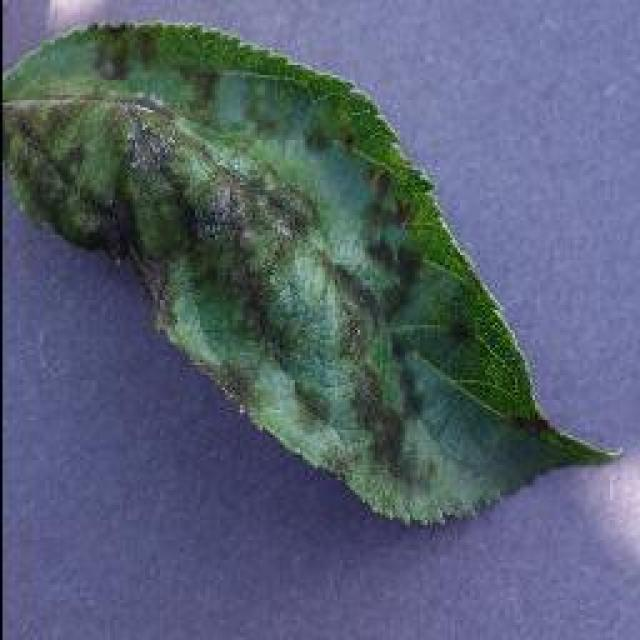apple scab disease: (0, 15, 620, 527)
